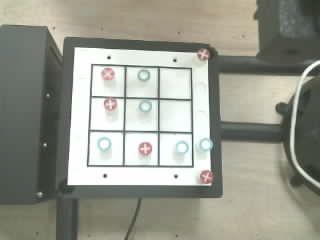blue circle: (97, 137, 111, 151), (199, 138, 212, 151), (138, 69, 151, 81), (176, 141, 188, 153), (139, 100, 151, 111)
board: (67, 46, 213, 187)
cells: (89, 132, 122, 165), (125, 133, 157, 165), (90, 98, 123, 129), (160, 134, 192, 165), (125, 99, 157, 130), (160, 100, 191, 131), (92, 66, 124, 96), (160, 68, 190, 98), (127, 67, 157, 97)
grid: (87, 64, 193, 167)
red cross: (138, 142, 151, 155), (200, 170, 213, 183), (101, 68, 115, 80), (197, 48, 210, 60), (104, 97, 116, 110)
